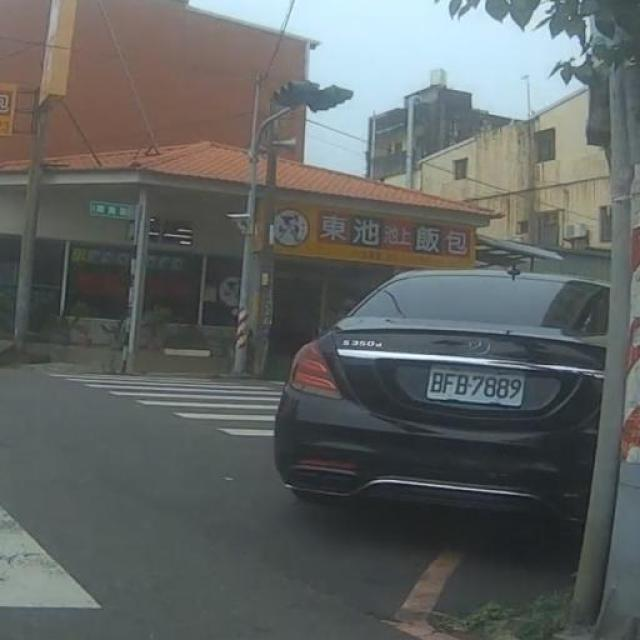illegalparking: (197, 167, 640, 613)
